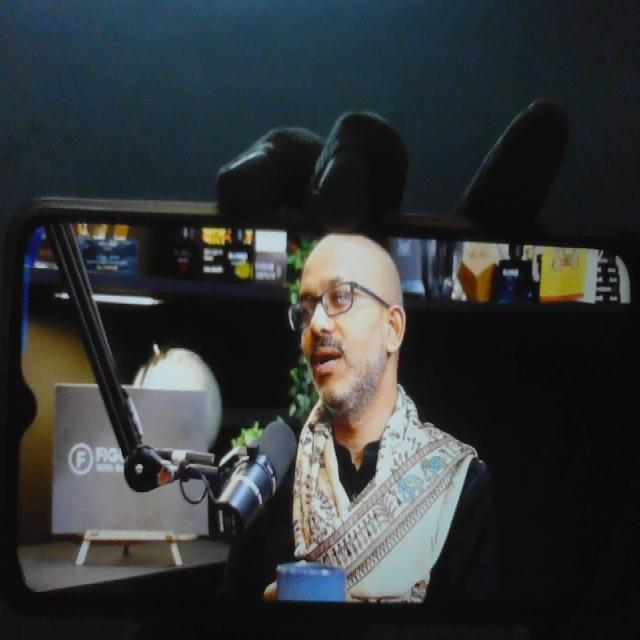fake: (278, 175, 412, 428)
